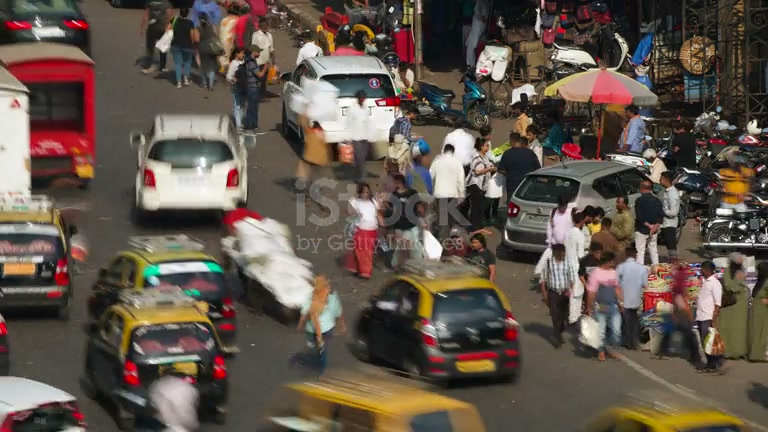bus: (0, 40, 97, 190), (0, 59, 33, 201)
car: (349, 267, 523, 388), (82, 286, 229, 429), (87, 233, 241, 353), (499, 156, 653, 259), (279, 53, 407, 160), (257, 372, 486, 429), (130, 113, 250, 219), (0, 192, 89, 321), (221, 220, 316, 326), (0, 0, 92, 53), (0, 376, 88, 431), (0, 311, 11, 375)
pedestrian: (534, 242, 579, 347), (584, 250, 626, 360), (299, 273, 344, 366), (429, 142, 467, 242), (694, 259, 727, 374), (346, 182, 384, 280), (616, 245, 648, 351), (633, 178, 665, 268), (170, 8, 195, 88)
truck: (0, 62, 33, 203)
